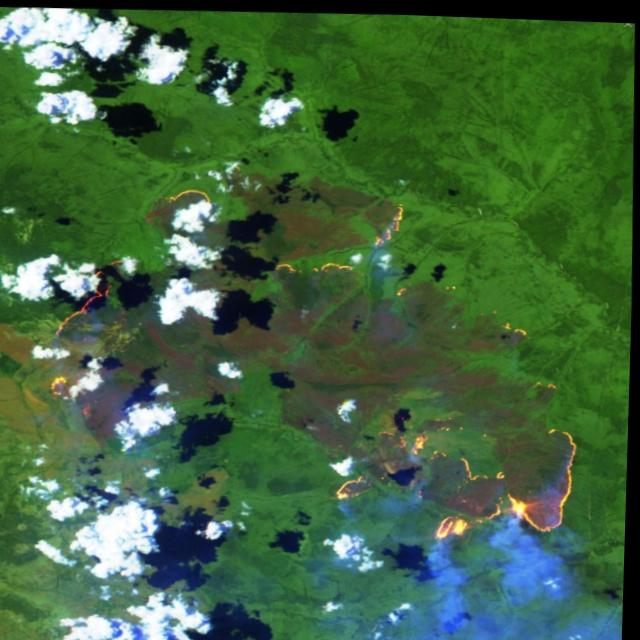fire: (324, 405, 591, 544), (268, 194, 417, 274), (49, 248, 138, 339), (155, 181, 227, 215), (43, 370, 83, 402)
